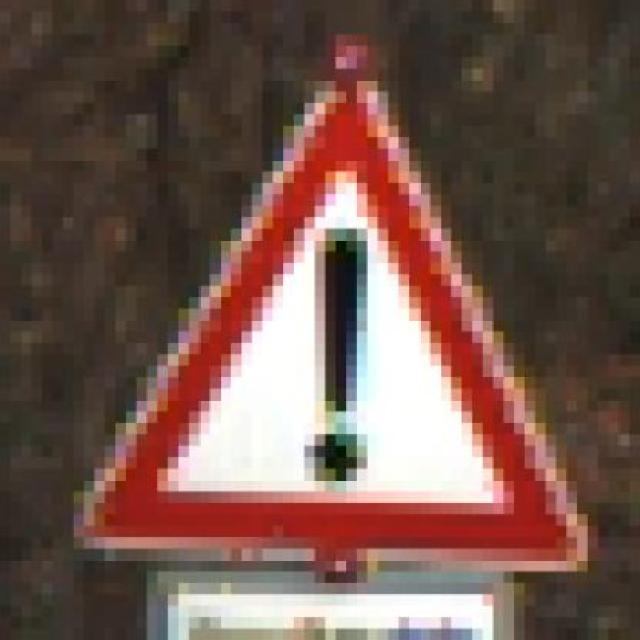Attention Please-: (63, 34, 588, 583)
